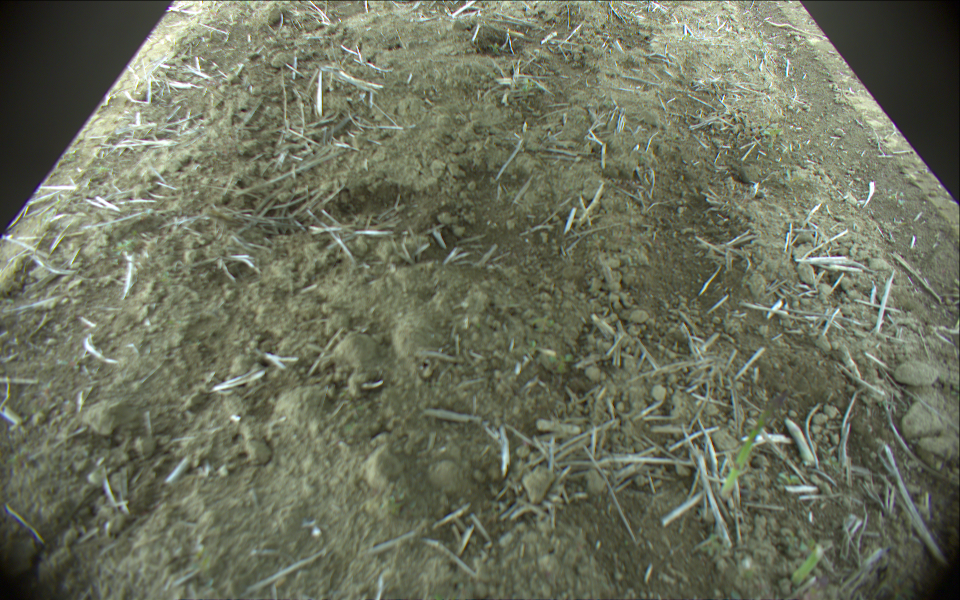aspa: (719, 387, 789, 498), (788, 546, 825, 588)
